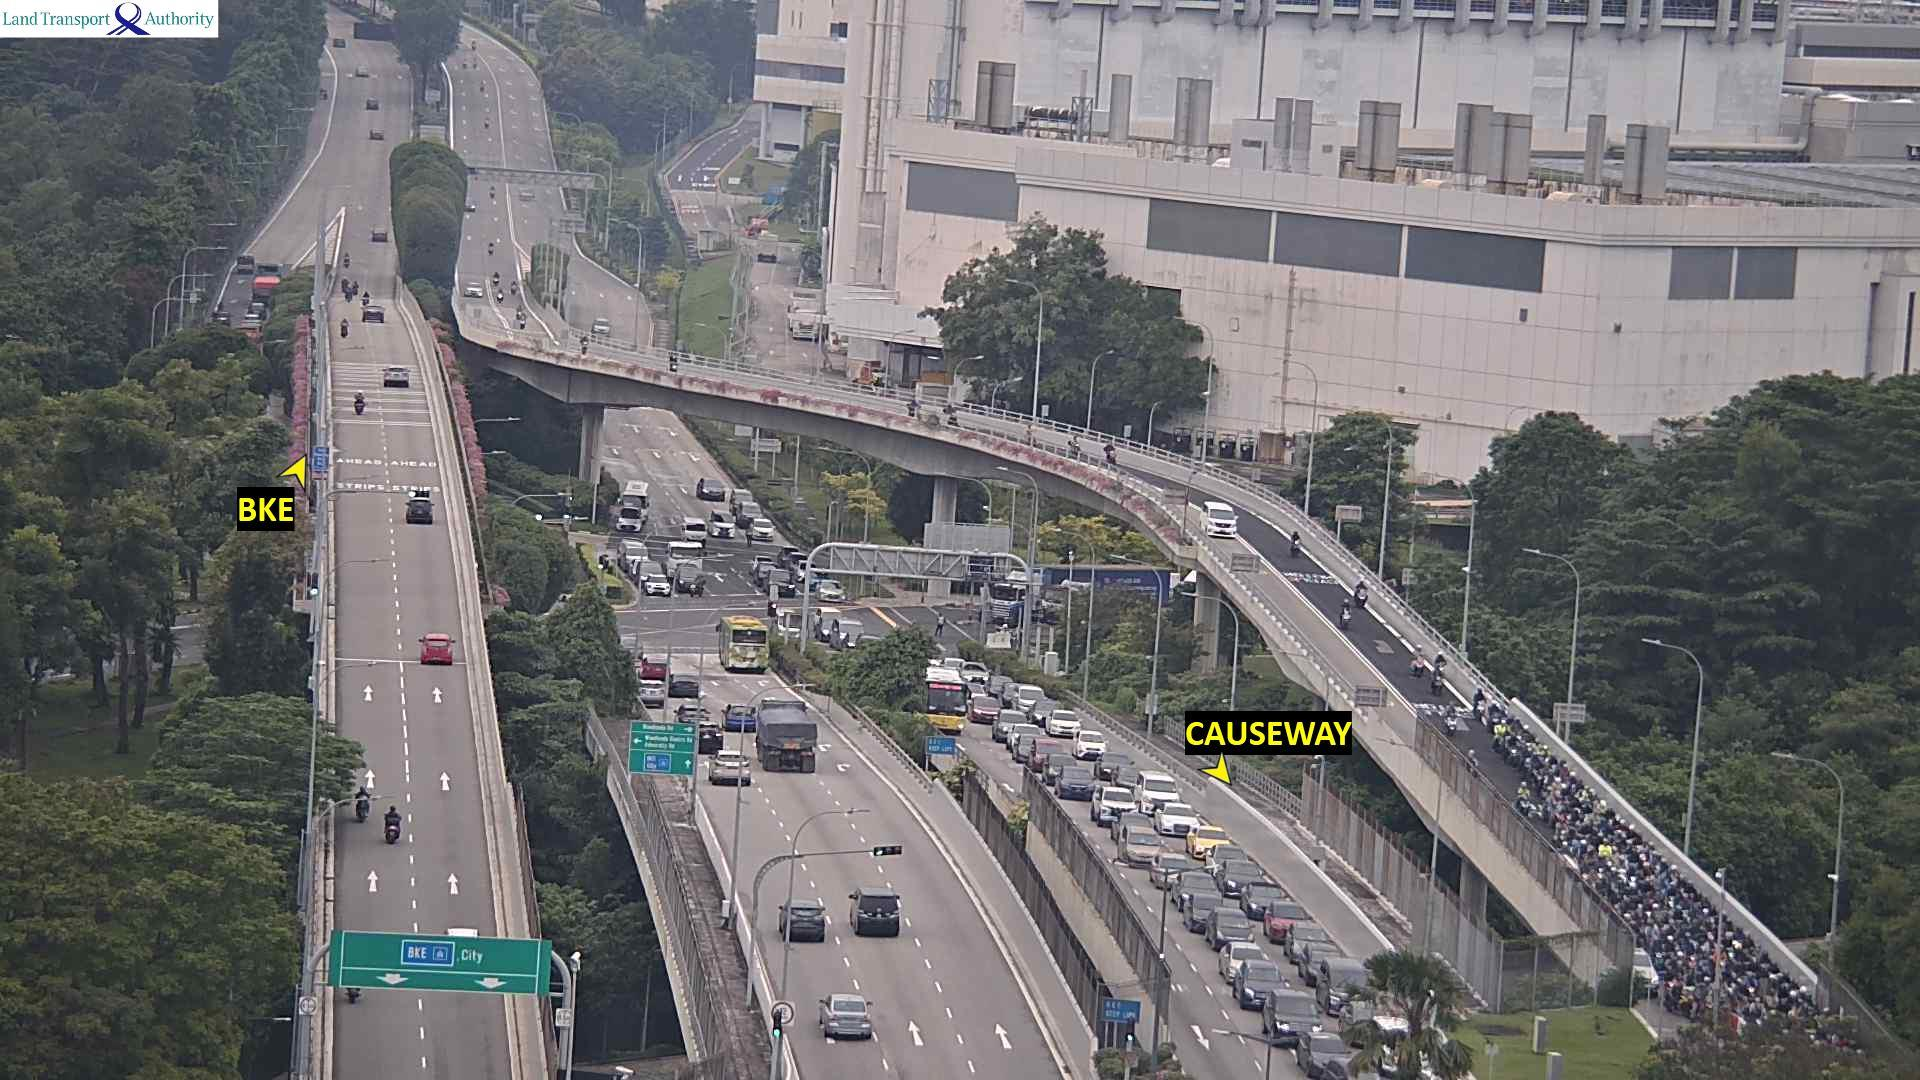vehicle-causeway-johor: (1229, 965, 1297, 1011), (1284, 933, 1343, 982), (1265, 989, 1321, 1036), (1251, 901, 1311, 940), (1002, 724, 1053, 767), (920, 675, 970, 717), (1132, 774, 1181, 809), (1172, 872, 1220, 905), (1210, 907, 1248, 948), (1197, 502, 1239, 538), (1056, 768, 1103, 800), (1220, 942, 1262, 976), (1090, 796, 1136, 827), (1120, 829, 1160, 862), (1155, 804, 1200, 831), (1218, 861, 1259, 889), (1036, 713, 1079, 738), (1188, 828, 1229, 852), (1072, 734, 1104, 763), (1433, 653, 1448, 689), (1408, 641, 1421, 672), (1353, 578, 1367, 605), (1338, 597, 1349, 627), (1099, 446, 1114, 467), (906, 399, 922, 416), (465, 282, 482, 296), (947, 405, 959, 424), (1291, 530, 1300, 554), (1069, 437, 1083, 452), (668, 355, 680, 371), (580, 337, 590, 355), (518, 315, 530, 330), (496, 288, 505, 304), (488, 243, 494, 257), (493, 270, 499, 283), (511, 281, 517, 294)
vehicle-causeway-singapore: (758, 698, 817, 770), (718, 616, 776, 673), (850, 892, 908, 945), (814, 992, 873, 1040), (783, 901, 832, 945), (419, 634, 456, 666), (709, 759, 753, 785), (724, 703, 756, 731), (665, 674, 698, 699), (412, 497, 435, 526), (386, 365, 416, 387), (388, 811, 407, 844), (412, 487, 436, 508), (352, 388, 367, 416), (358, 788, 369, 819), (362, 307, 386, 321), (372, 228, 388, 243), (341, 316, 348, 337), (343, 251, 350, 267), (341, 276, 347, 290), (363, 290, 369, 304), (345, 290, 351, 303), (353, 279, 359, 291)
